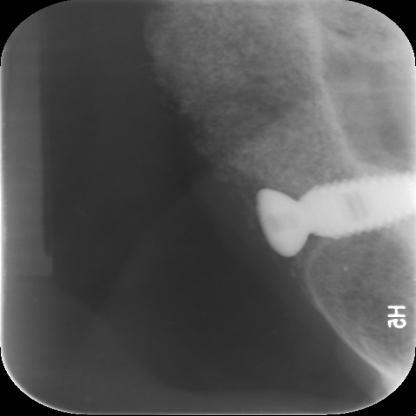Bicon: (250, 172, 404, 260)
